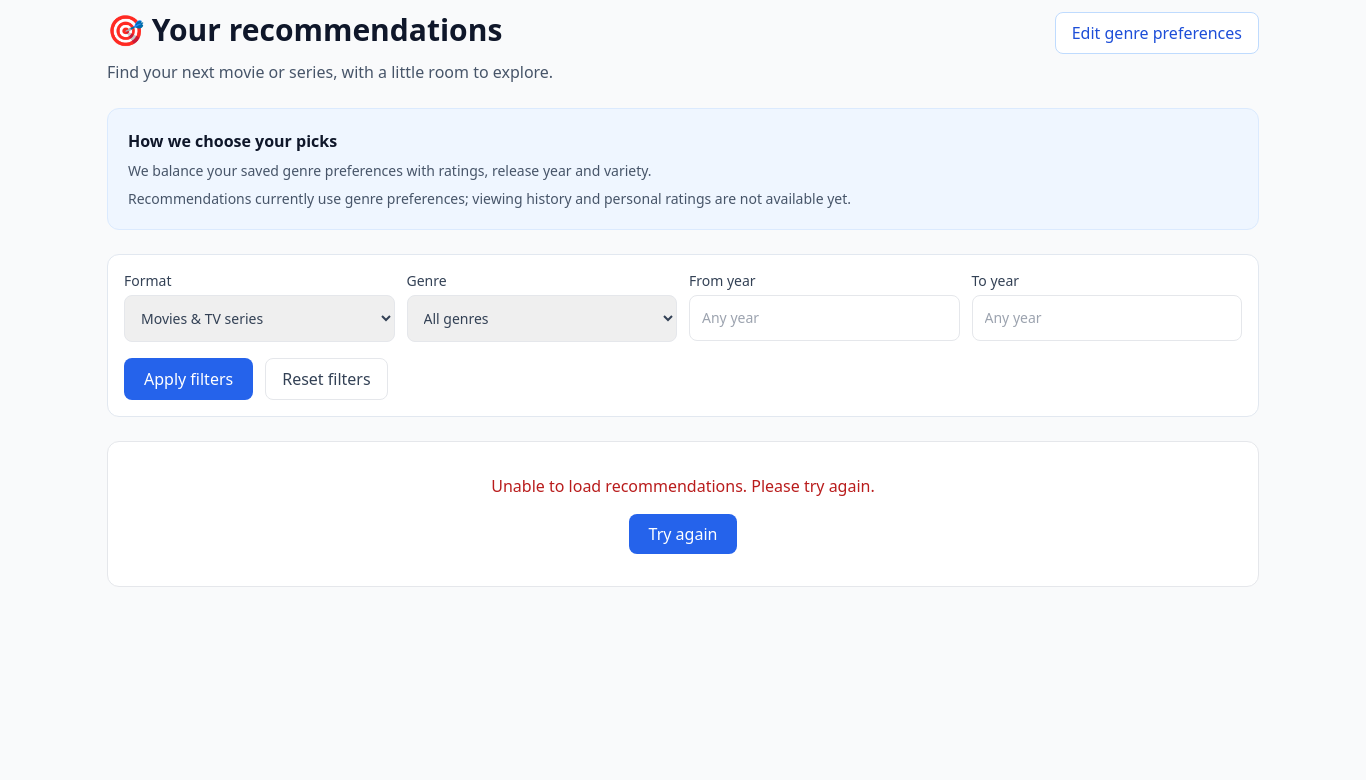
recommendations page › offers retry after an API error
The width and height of the screenshot is (1366, 780).
Expected: the message shows "Unable to load", x1=491 y1=475 x2=875 y2=497
Click the button "Try again": (683, 534) x1=629 y1=514 x2=737 y2=554
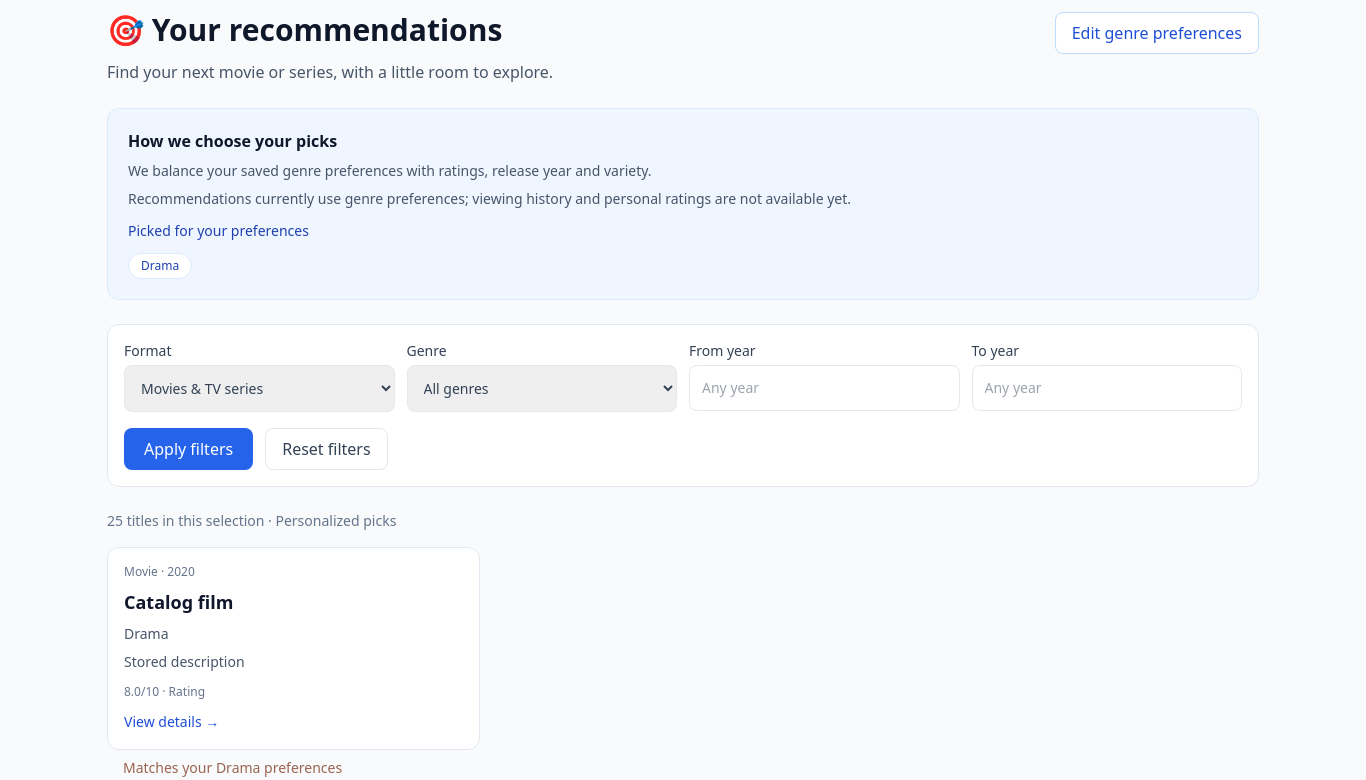
Expected: the heading "Catalog film" is shown, x1=124 y1=590 x2=233 y2=614
